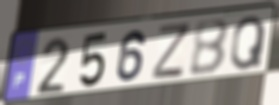2: (36, 34, 72, 97)
5: (78, 31, 108, 90)
6: (115, 28, 149, 84)
B: (188, 17, 232, 78)
Q: (229, 14, 268, 73)
Z: (149, 20, 192, 80)
